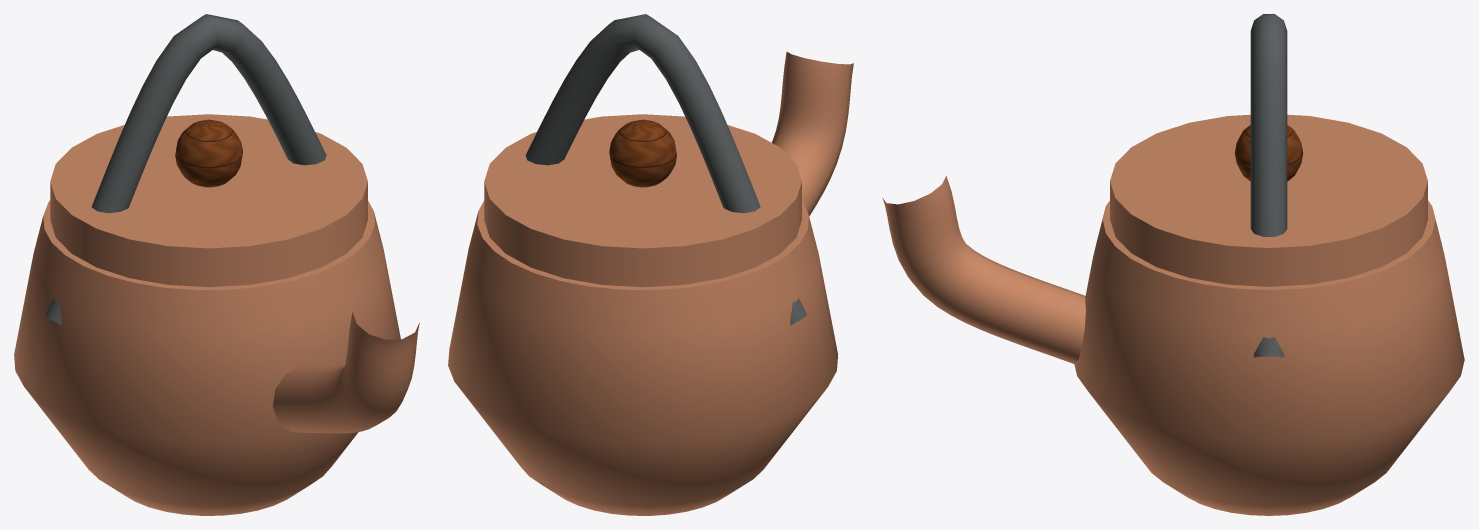
Rendered from adventurers-tavern-and-guild-hall-copper-kettle-7bdd71f9__24728.glb.
3 renders of one model, left to right at view 1: azimuth 30°, elevation 25°; view 2: azimuth 150°, elevation 25°; view 3: azimuth 270°, elevation 25°, orthographic.
Parts seen in each view (by area): view 1: copper-kettle; view 2: copper-kettle; view 3: copper-kettle.
Part boxes in pixels (bbox=[...]): copper-kettle: bbox=[14, 14, 419, 515]; copper-kettle: bbox=[448, 14, 853, 515]; copper-kettle: bbox=[882, 14, 1464, 515].
Bounding box in the file's own units: 0.32 × 0.4143 × 0.4762.
Materials: 3 (1 with a texture image).
